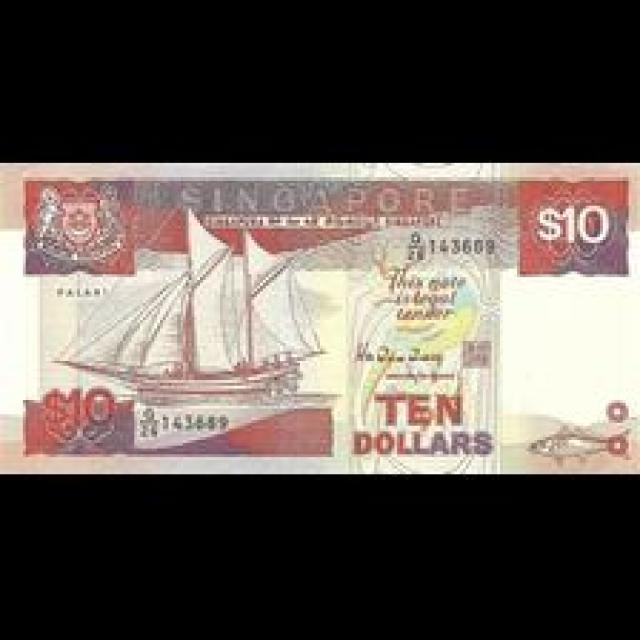banknote: (0, 160, 637, 474), (342, 382, 502, 462), (33, 375, 124, 439), (530, 190, 614, 256)
